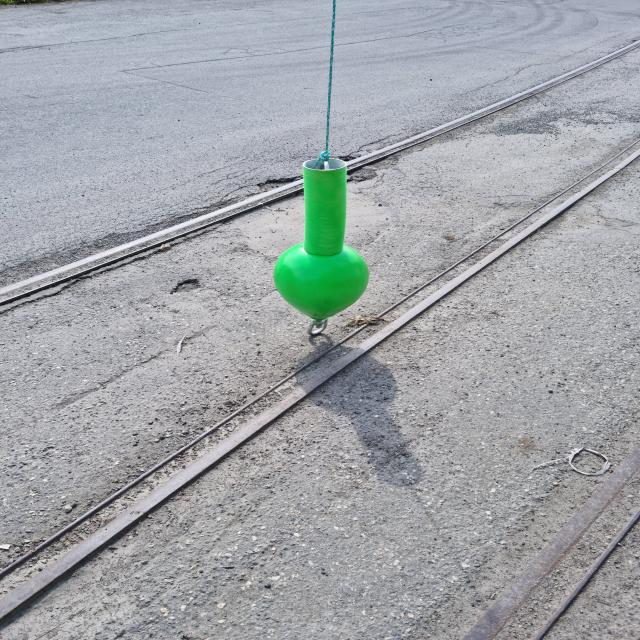green: (272, 159, 370, 318)
